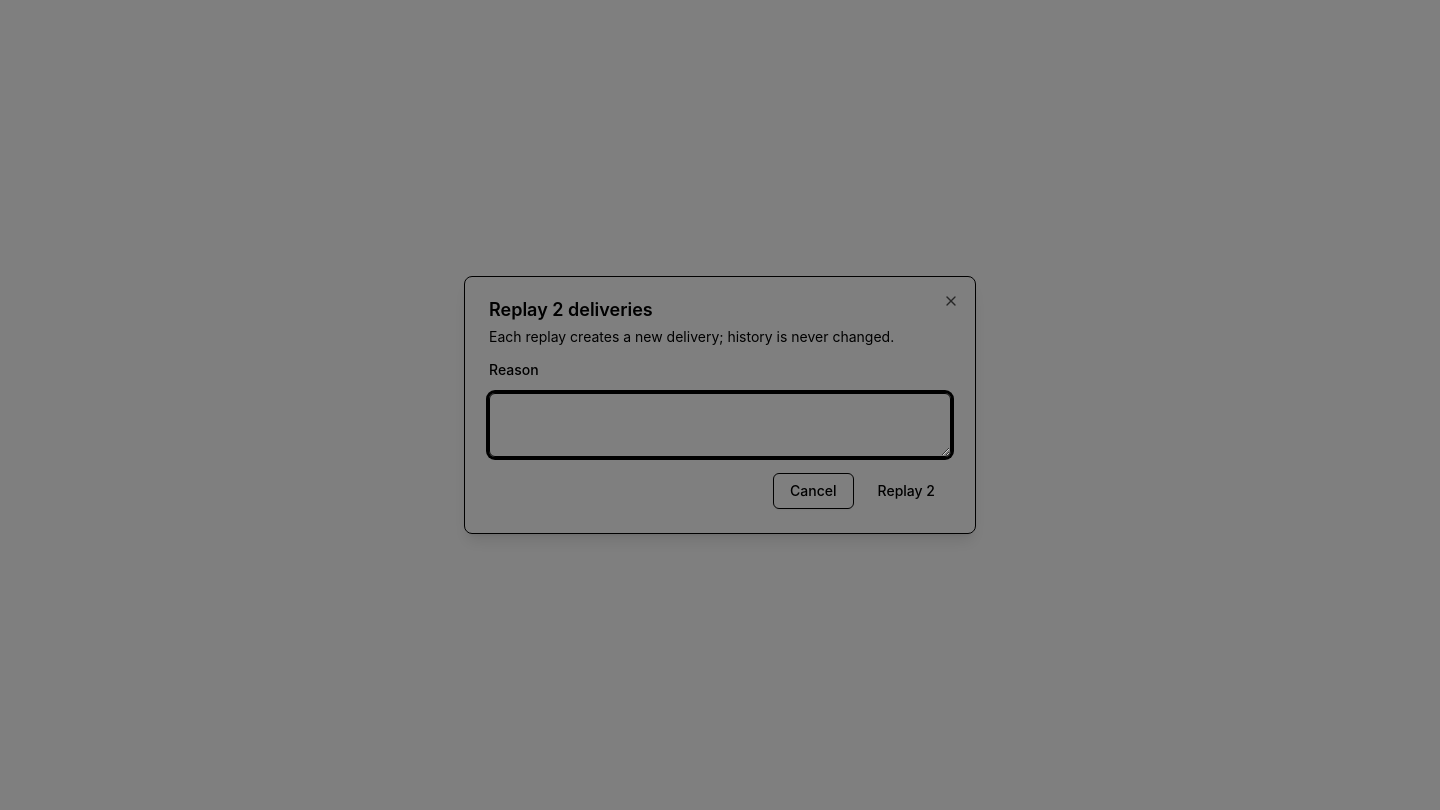
ReplayDialog result › keeps the sent count after the caller clears its selection
In the text box labelled "Reason": (720, 425) [489,393,951,457], type "backend fixed"
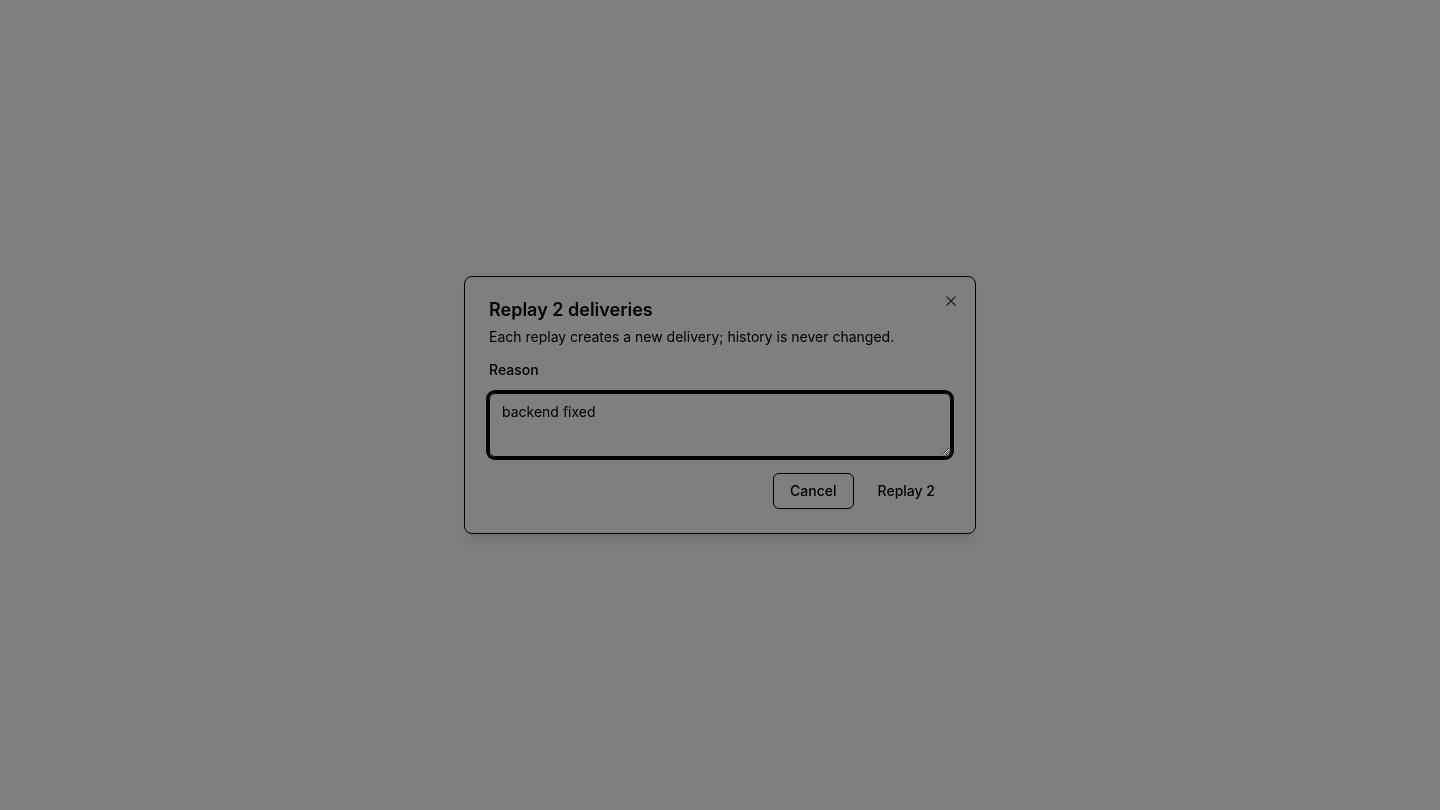
Click the button "Replay 2": (906, 491) [862,473,951,509]
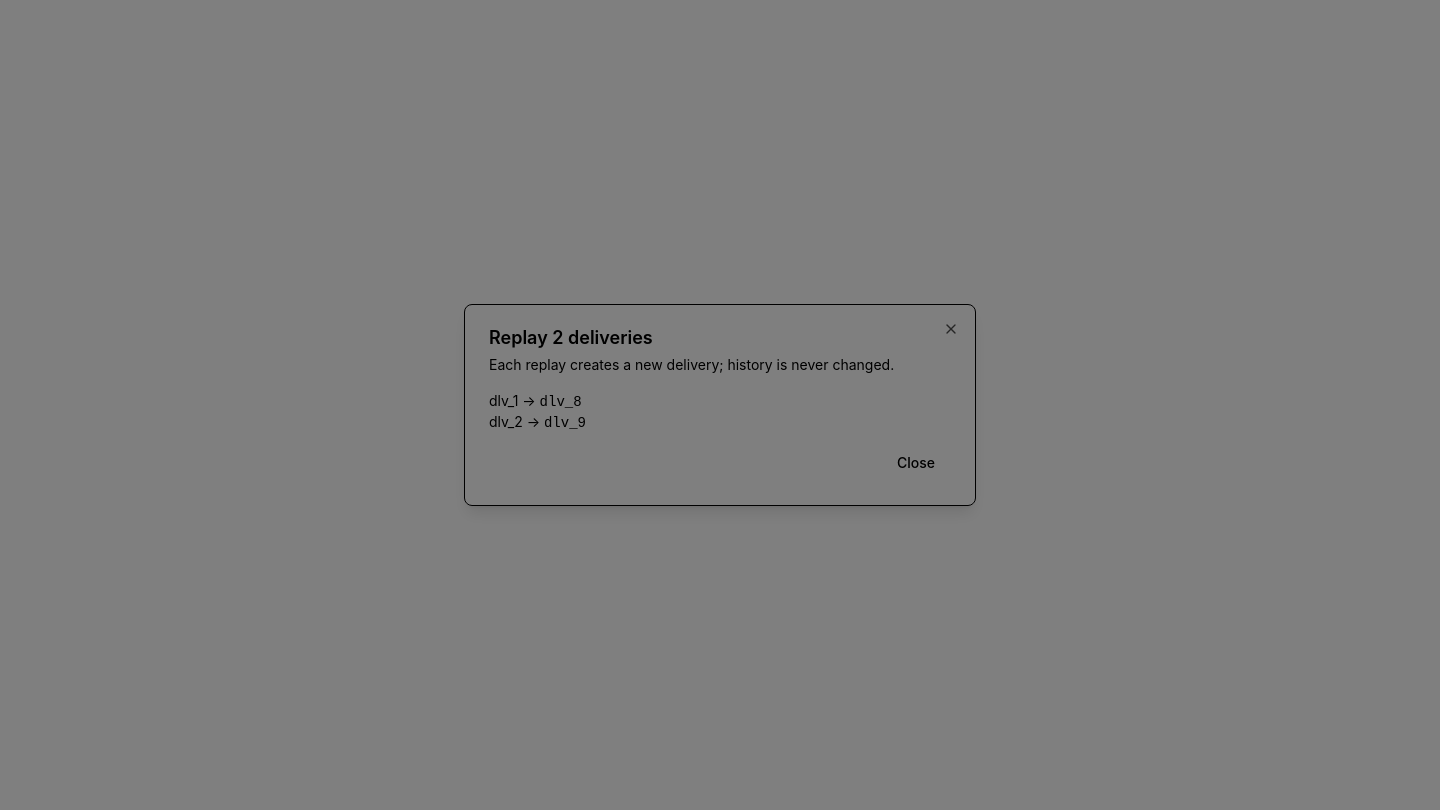
Expected: the heading "Replay 2 deliveries" is shown, [489,327,653,348]
Expected: the text "dlv_9" is shown, [544,415,586,431]
